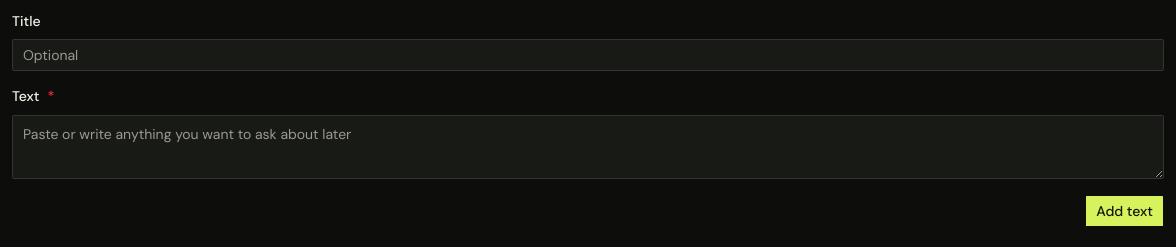
Scenario: NoteIngestForm › submits a note, toasts and resets on success
Step 1. Type "Deploys freeze on Fridays" into the text box labelled "Text *" → (588, 146), box [12, 114, 1164, 178]
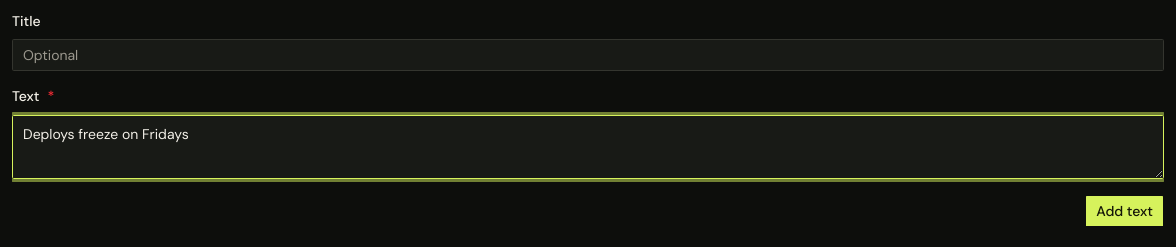
Step 2. Click the button "Add text" → (1125, 210), box [1085, 194, 1164, 226]
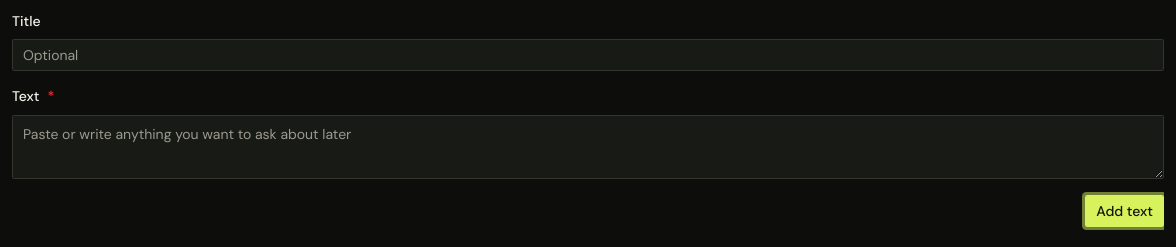
Now the text box labelled "Text *" is empty, box [12, 114, 1164, 178]
